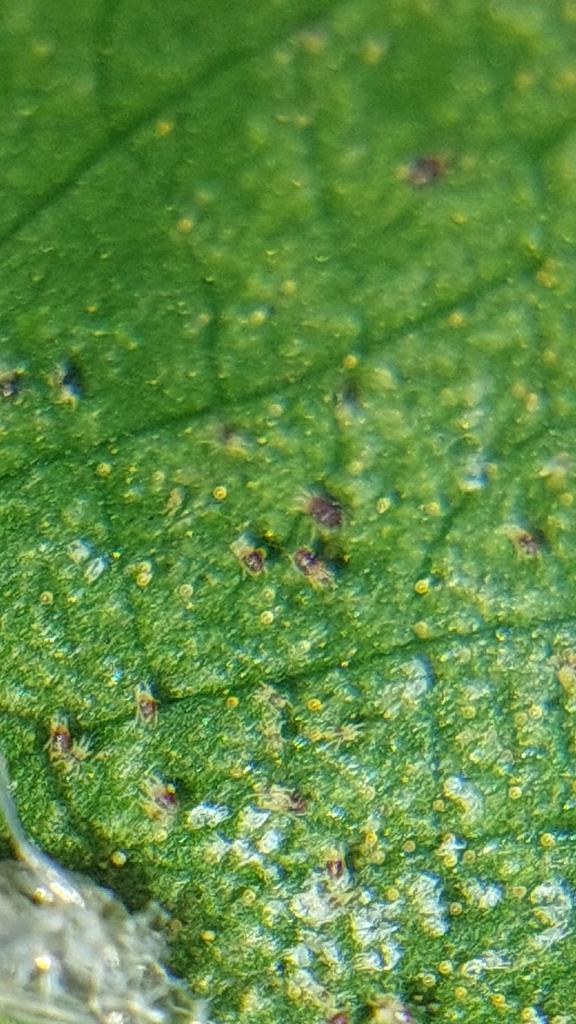tiny_pests: (271, 463, 367, 550), (470, 500, 554, 584), (21, 701, 99, 776), (246, 756, 320, 833), (280, 533, 351, 611), (213, 529, 293, 593), (129, 764, 203, 833), (114, 661, 177, 730), (306, 837, 367, 906)
